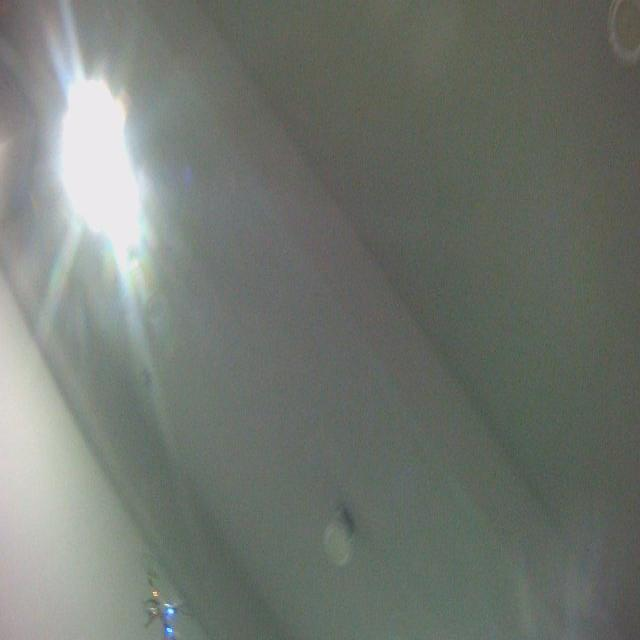drone: (128, 548, 197, 640)
